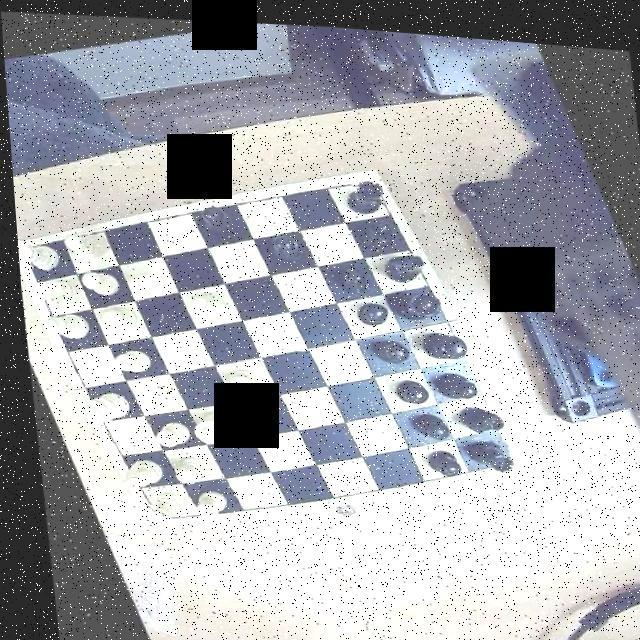chess-table-corners: (474, 428, 516, 468), (346, 164, 386, 202), (133, 496, 170, 528), (14, 235, 46, 271)
